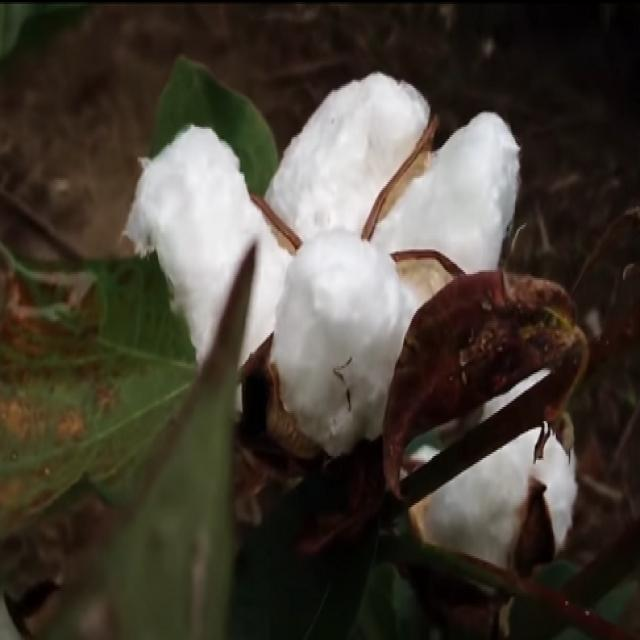Matured Cotton Boll: (119, 59, 527, 465), (411, 419, 582, 598)
